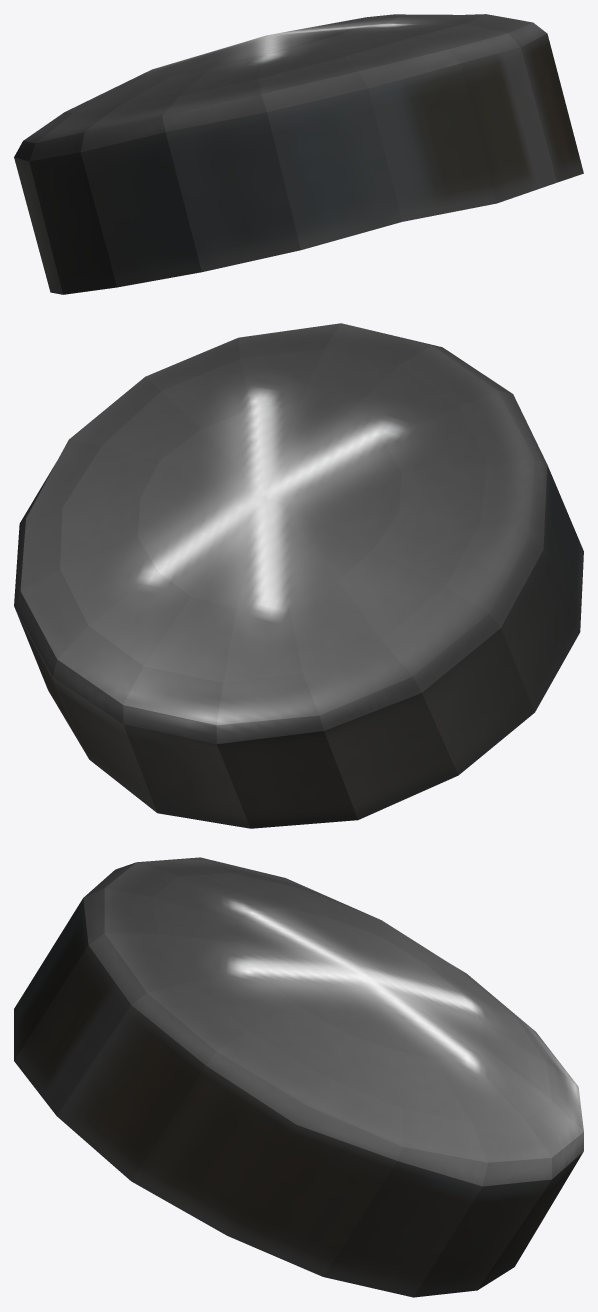
The model's file is YVR_d3_left_Xbutton.obj.
3 views of the same model, one above another, from view 1: azimuth 30°, elevation 25°; view 2: azimuth 150°, elevation 25°; view 3: azimuth 270°, elevation 25° (orthographic). The views are drawn at different scales.
Visible parts, largest first — view 1: yvr_d3_left_Xbutton; view 2: yvr_d3_left_Xbutton; view 3: yvr_d3_left_Xbutton.
Part boxes in pixels (left/top/right/bottom): yvr_d3_left_Xbutton: left=14, top=14, right=583, bottom=294; yvr_d3_left_Xbutton: left=14, top=323, right=583, bottom=828; yvr_d3_left_Xbutton: left=14, top=857, right=583, bottom=1297.
Size of the model in its own units: 0.0104 by 0.0071 by 0.0107.
Materials: 1 (1 with a texture image).
